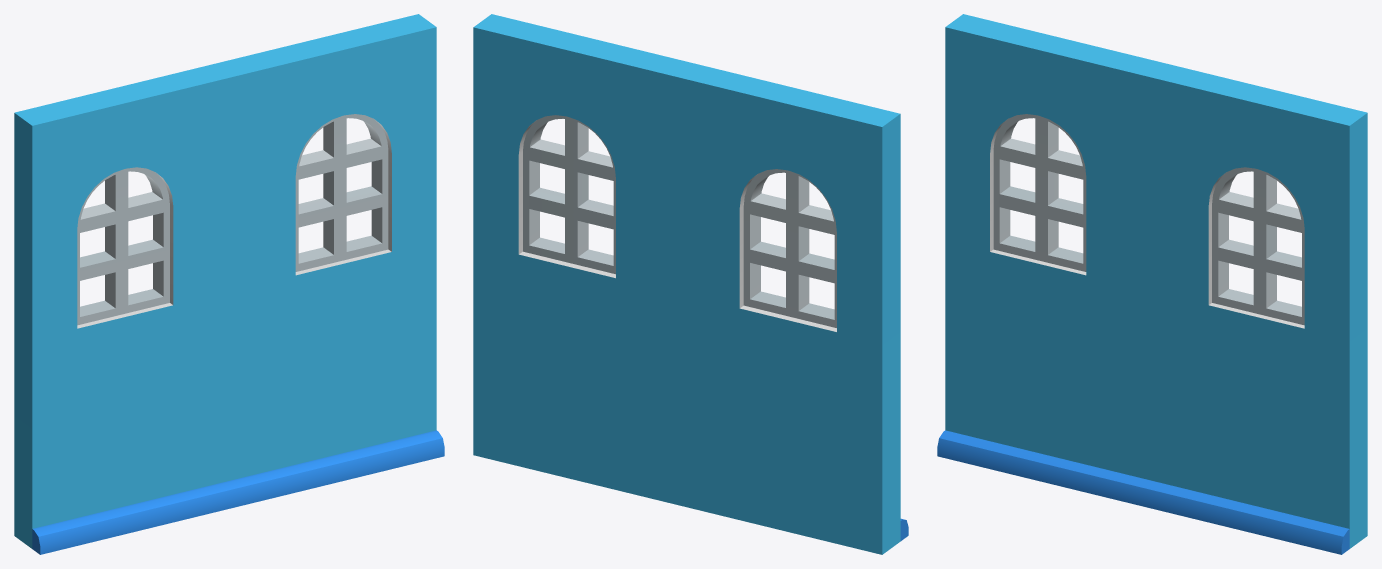
File: B_Wall002.fbx
The picture shows the model from 3 angles, left to right: view 1: azimuth 30°, elevation 25°; view 2: azimuth 150°, elevation 25°; view 3: azimuth 330°, elevation 25°; orthographic projection.
Parts seen in each view (by area): view 1: Wall002; view 2: Wall002; view 3: Wall002.
Boxes of the visible parts, box(x1,y1,x2,y2) form: Wall002: box(14, 14, 444, 554); Wall002: box(473, 14, 908, 554); Wall002: box(937, 14, 1367, 554).
Size of the model in its own units: 250 by 250 by 27.87.
Materials: 1 (1 with a texture image).
